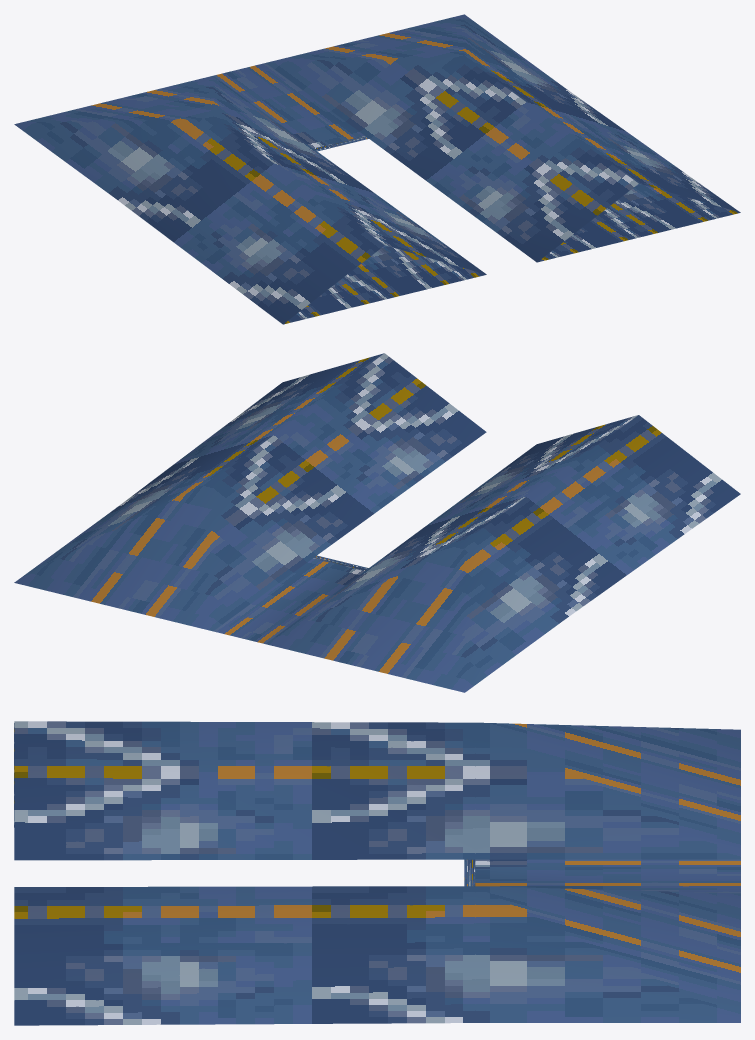
The model's file is 2072pants000_c.gltf.
3 renders of one model, top to bottom at view 1: azimuth 30°, elevation 25°; view 2: azimuth 150°, elevation 25°; view 3: azimuth 270°, elevation 25°, orthographic. The views are drawn at different scales.
Visible parts, largest first — view 1: 2072pants000_c; view 2: 2072pants000_c; view 3: 2072pants000_c.
Boxes of the visible parts, x1=… form: 2072pants000_c: x1=14, y1=14, x2=740, y2=324; 2072pants000_c: x1=14, y1=353, x2=740, y2=692; 2072pants000_c: x1=14, y1=721, x2=740, y2=1025.
Size of the model in its own units: 0.7793 by 0.0884 by 0.803.
1 material, 1 textured.
